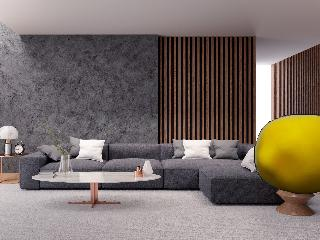lemon: (255, 116, 320, 194)
